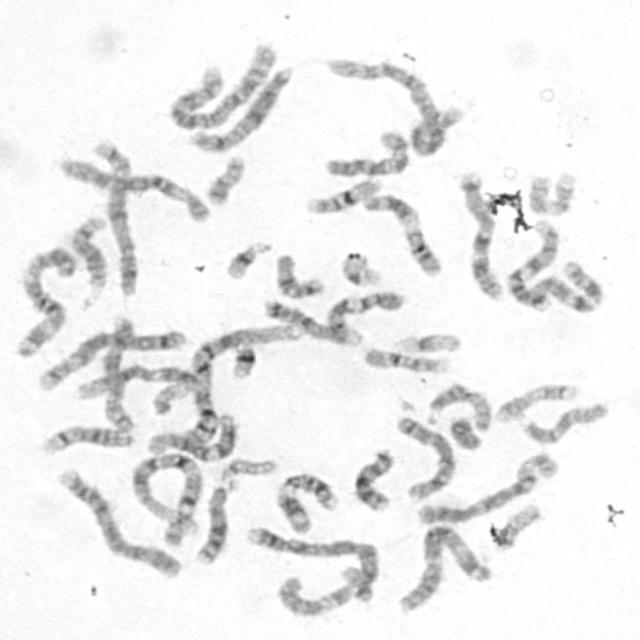A1: (180, 318, 302, 445), (126, 448, 206, 543)
A2: (322, 52, 452, 157), (162, 36, 279, 133)
A3: (392, 520, 496, 615), (9, 242, 78, 359)
B4: (52, 465, 184, 579), (241, 521, 381, 606)
B5: (34, 323, 186, 392), (92, 135, 141, 297)
C10: (277, 565, 373, 618), (320, 125, 411, 179)
C11: (359, 188, 444, 278), (271, 468, 342, 534)
C12: (72, 360, 200, 403), (145, 410, 239, 463)
C6: (412, 447, 562, 527), (53, 152, 215, 224)
C7: (455, 168, 507, 301), (523, 257, 607, 316)
C8: (390, 411, 458, 501), (97, 311, 136, 434)
C9: (501, 216, 561, 310), (321, 285, 409, 346)
D13: (192, 477, 236, 566), (350, 444, 397, 513)
D14: (65, 212, 111, 292), (37, 421, 139, 456)
D15: (515, 397, 614, 446), (423, 378, 495, 434)
E16: (302, 173, 386, 215), (359, 343, 451, 375)
E17: (490, 378, 581, 424), (524, 167, 580, 218)
E18: (258, 299, 362, 346), (271, 249, 327, 300)
F19: (392, 328, 464, 356), (337, 247, 385, 288)
F20: (489, 499, 543, 551), (200, 150, 247, 207)
G21: (221, 236, 274, 282), (226, 337, 259, 380)
G22: (217, 454, 279, 482), (147, 377, 190, 416)
X: (184, 62, 294, 154)
Y: (445, 412, 486, 451)
